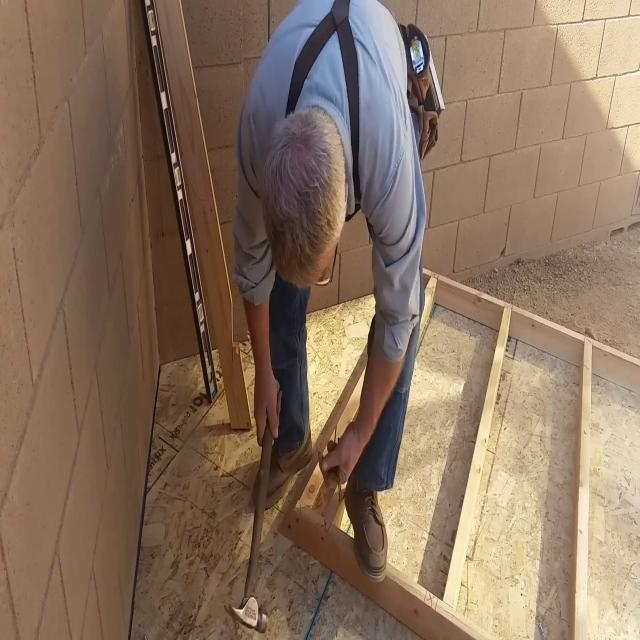hammer: (224, 416, 272, 632)
